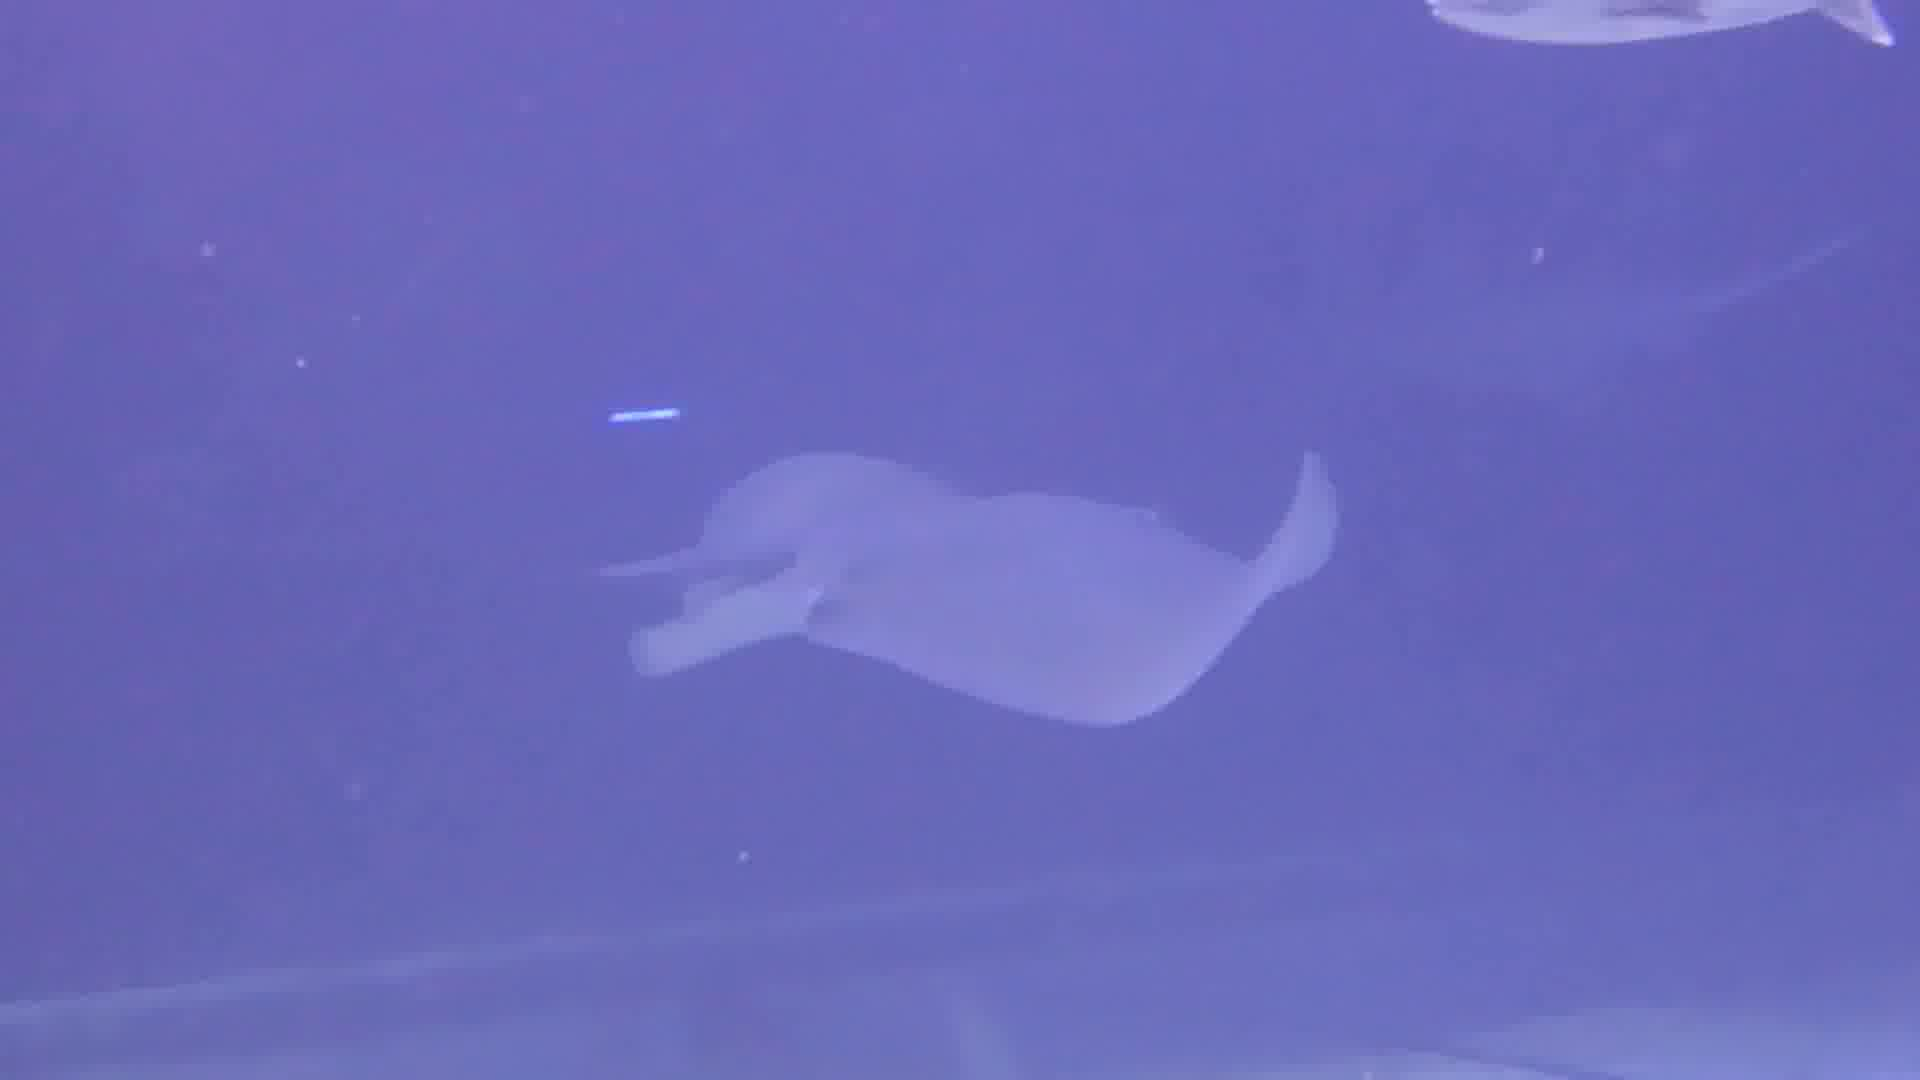Dasyatis akajei: (498, 335, 1509, 806)
